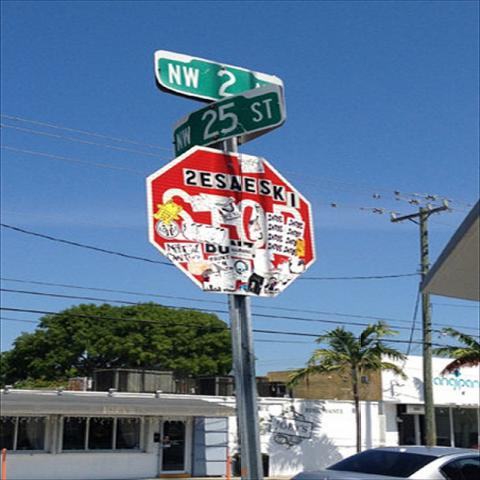car: (304, 445, 479, 475)
